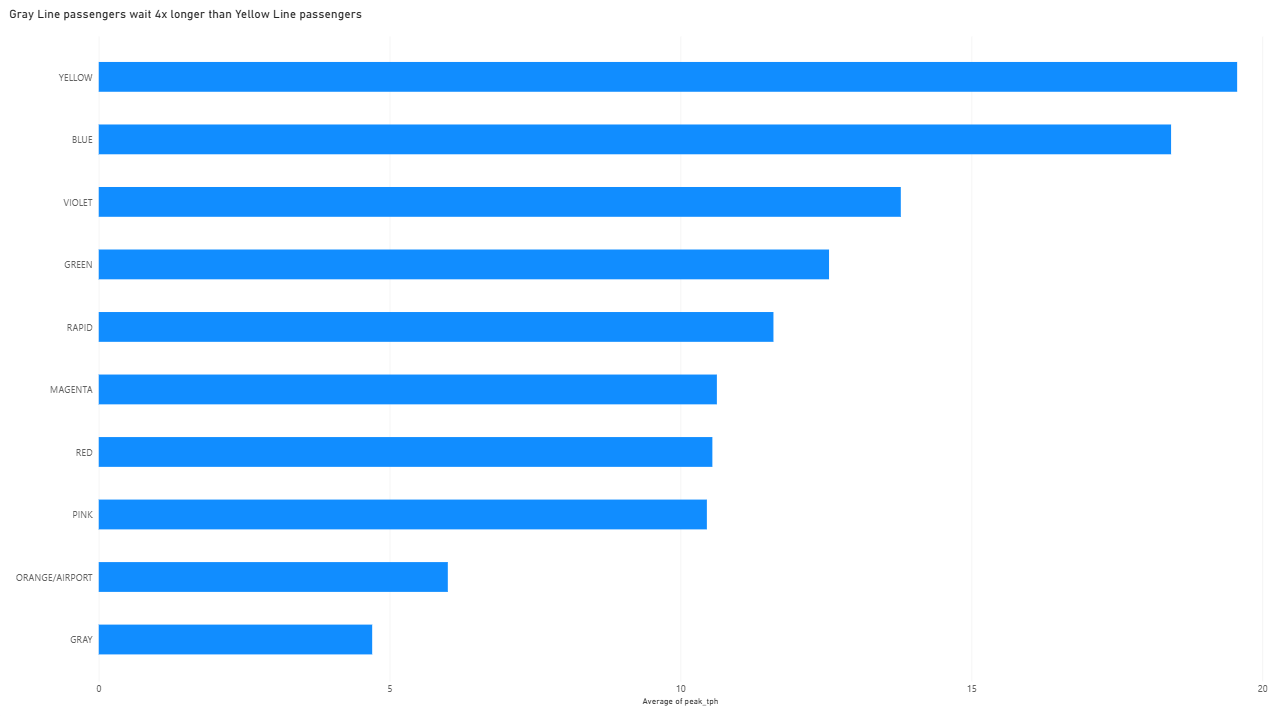

Layout of this report page (visuals, bound fields, positions):
{"tool":"powerbi","page":{"name":"Page 2","canvas":[1920,1080],"ordinal":1},"visuals":[{"type":"clusteredBarChart","title":"Gray Line passengers wait 4x longer than Yellow Line passengers","fields":{"Category":["dashboard.line"],"Y":["Avg(dashboard.peak_tph)"]},"box":[0,0,1920,1080],"z":0}]}

Visuals, with their boxes in screenshot pixels (x1, y1, x2, y2), scaled from the page's 1920x1080 canvas onto the 1275x716 screenshot:
"Gray Line passengers wait 4x longer than Yellow Line passengers" clusteredBarChart: x1=0 y1=0 x2=1274 y2=715
